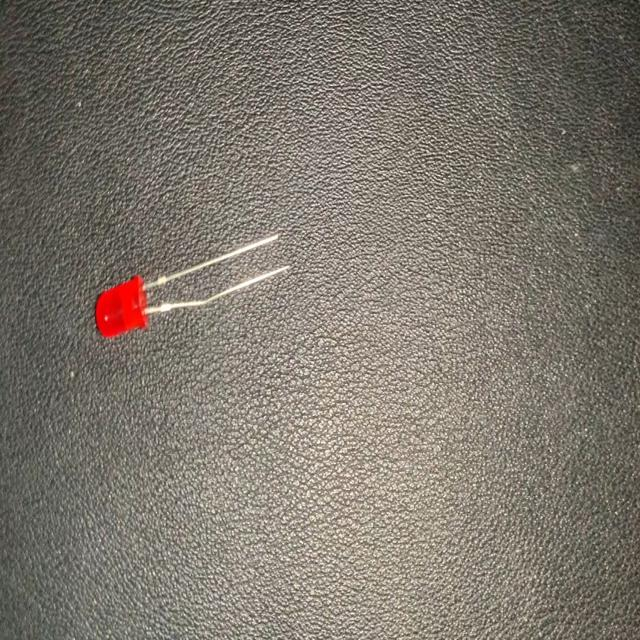LED: (95, 233, 288, 338)
